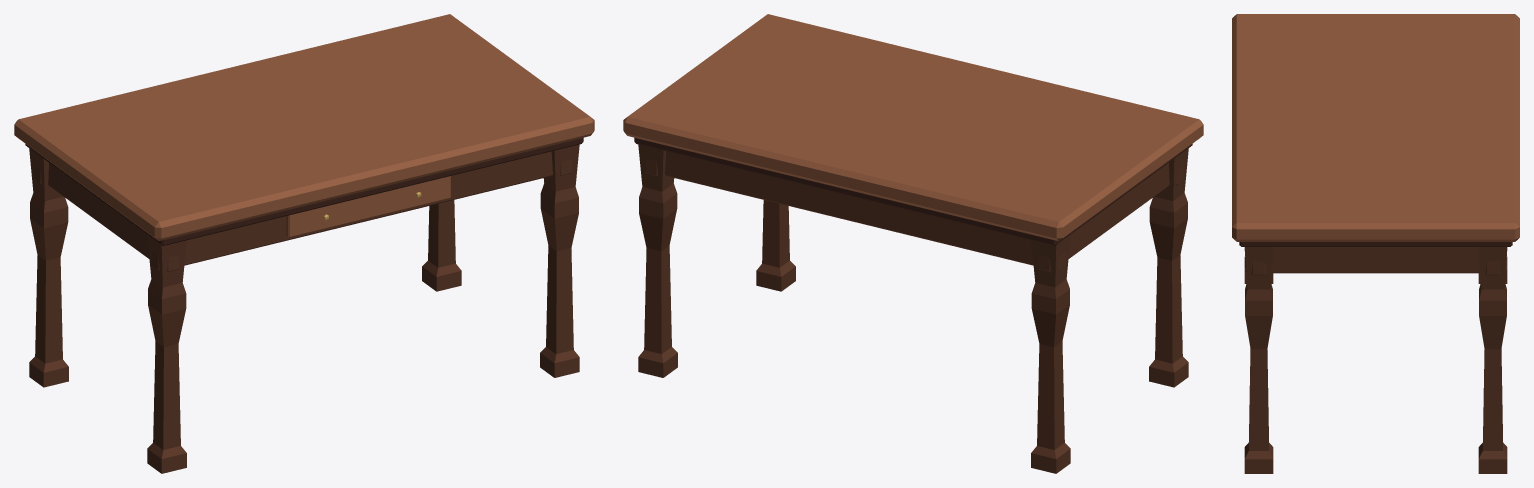
File: casebook_reading_table.glb
3 renders of one model, left to right at view 1: azimuth 30°, elevation 25°; view 2: azimuth 150°, elevation 25°; view 3: azimuth 270°, elevation 25°, orthographic.
Parts seen in each view (by area): view 1: casebook_reading_table_Top, casebook_reading_table, casebook_reading_table_Aprons, casebook_reading_table_FrontDrawer, casebook_reading_table_TopUndercut; view 2: casebook_reading_table_Top, casebook_reading_table, casebook_reading_table_Aprons, casebook_reading_table_TopUndercut; view 3: casebook_reading_table_Top, casebook_reading_table, casebook_reading_table_Aprons, casebook_reading_table_TopUndercut.
Boxes of the visible parts, x1,y1,x2,y2 form: casebook_reading_table_Top: (14,14,594,240); casebook_reading_table: (29,144,579,473); casebook_reading_table_Aprons: (34,151,572,271); casebook_reading_table_FrontDrawer: (286,176,450,237); casebook_reading_table_TopUndercut: (25,137,583,245); casebook_reading_table_Top: (623,14,1203,240); casebook_reading_table: (638,144,1188,473); casebook_reading_table_Aprons: (645,151,1183,271); casebook_reading_table_TopUndercut: (634,137,1192,245); casebook_reading_table_Top: (1232,14,1519,241); casebook_reading_table: (1244,247,1507,473); casebook_reading_table_Aprons: (1245,247,1506,275); casebook_reading_table_TopUndercut: (1239,242,1512,246).
Size of the model in its own units: 1.4 by 0.78 by 0.8.
